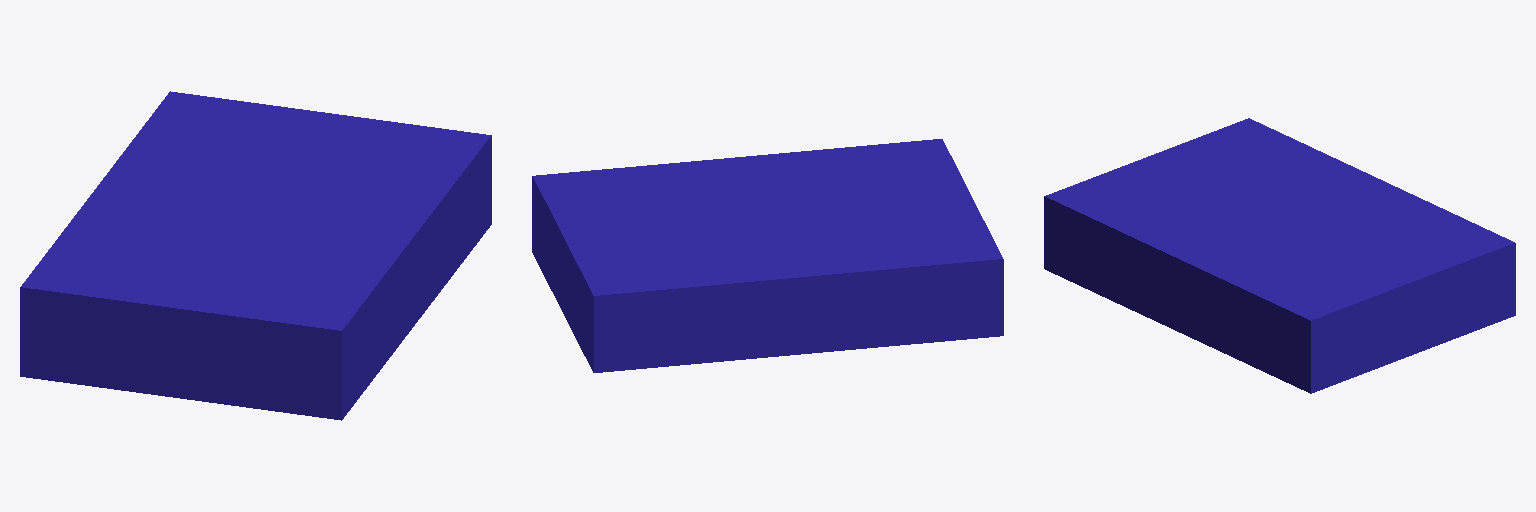
robot.urdf — Interference:
<?xml version="1.0"?>
<robot name="Interference">
  <link name="baseLink">
    <inertial>
      <origin xyz="0.0 0.0 0.0" rpy="0.0 0.0 0.0"/>
      <inertia ixx="0.0" ixy="0.0" ixz="0.0" iyy="0.0" iyz="0.0" izz="0.0"/>
      <mass value="0"/>
    </inertial>
    <visual>
      <origin xyz="0.0 0.0 0.0" rpy="0.0 0.0 0.7349895003975719"/>
      <geometry>
        <box size="0.04921940899963432 0.03416832307022685 0.01"/>
      </geometry>
      <material name="color">
        <color rgba="0.24714167100081408 0.20990624331489982 0.716481980517798 1.0"/>
      </material>
    </visual>
  </link>
</robot>

--- Facts derived from the render (not from the file) ---
Views: 3 orthographic renders of the robot side by side, from view 1: azimuth 30°, elevation 25°; view 2: azimuth 150°, elevation 25°; view 3: azimuth 270°, elevation 25°.
Model Interference with 1 links and 0 joints (none), rooted at baseLink, posed all joints at 0.
Visible links, largest first — view 1: baseLink; view 2: baseLink; view 3: baseLink.
Boxes of the visible links, x1,y1,x2,y2 form: baseLink: (20, 91, 491, 420); baseLink: (532, 139, 1003, 372); baseLink: (1044, 118, 1515, 393).
Bounding box of the posed robot: 0.0594 × 0.0584 × 0.01 m (x, y, z).
Geometry: primitives only (box / cylinder / sphere), no mesh files.